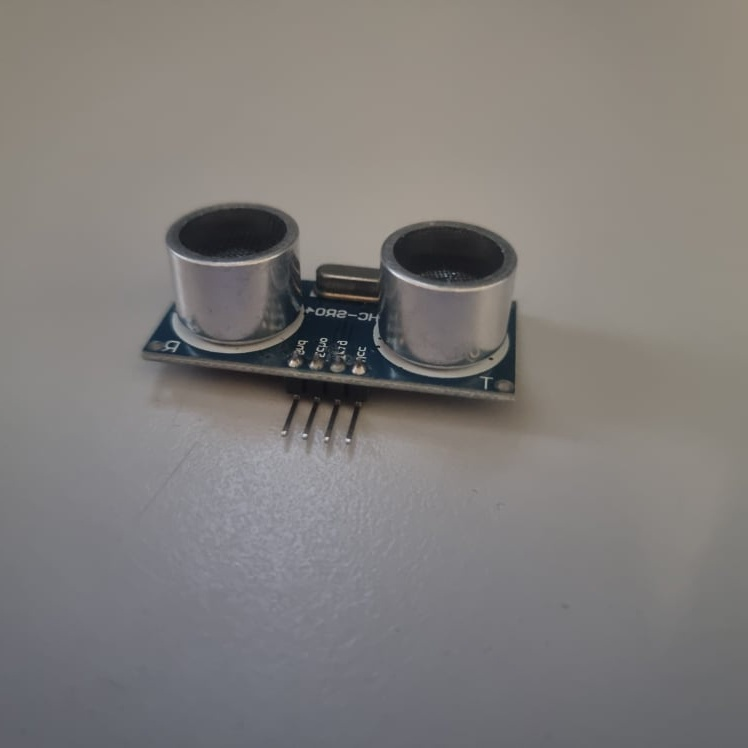SENSOR: (142, 205, 518, 441)
